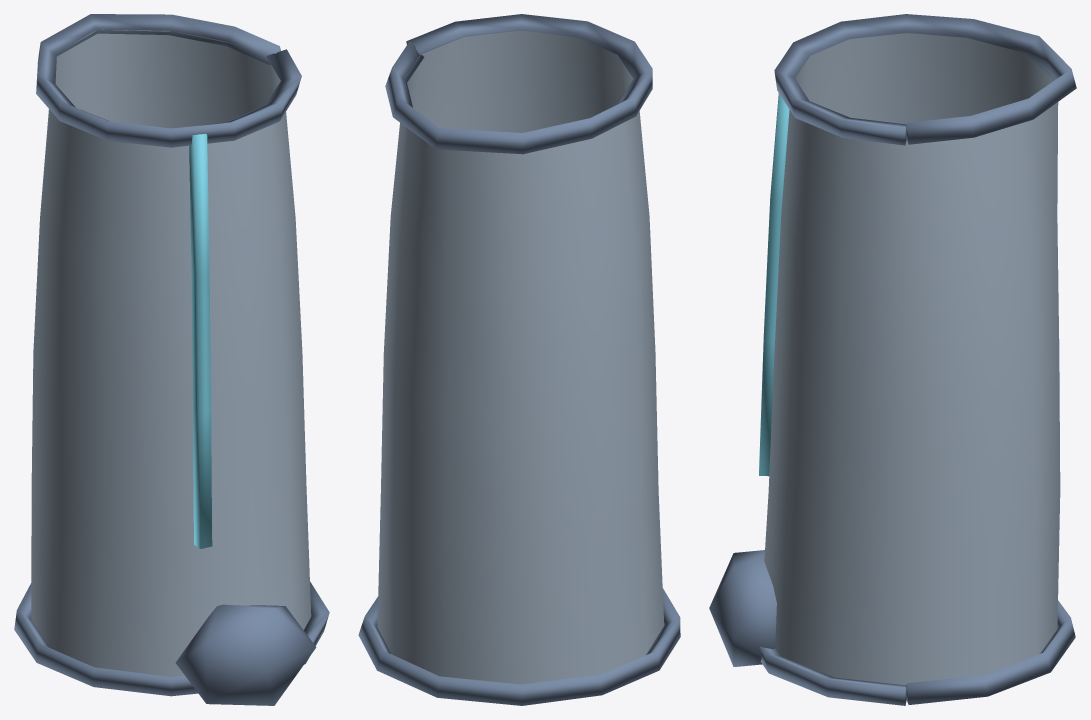
File: titanium_armor_greave.R.glb
The picture shows the model from 3 angles, left to right: view 1: azimuth 30°, elevation 25°; view 2: azimuth 150°, elevation 25°; view 3: azimuth 270°, elevation 25°; orthographic projection. The views are drawn at different scales.
Parts seen in each view (by area): view 1: titanium_armor_greave.R; view 2: titanium_armor_greave.R; view 3: titanium_armor_greave.R.
Part boxes in pixels (bbox=[...]): titanium_armor_greave.R: bbox=[14, 14, 329, 705]; titanium_armor_greave.R: bbox=[358, 14, 680, 705]; titanium_armor_greave.R: bbox=[709, 14, 1076, 705].
Bounding box in the file's own units: 0.1998 × 0.4044 × 0.2286.
